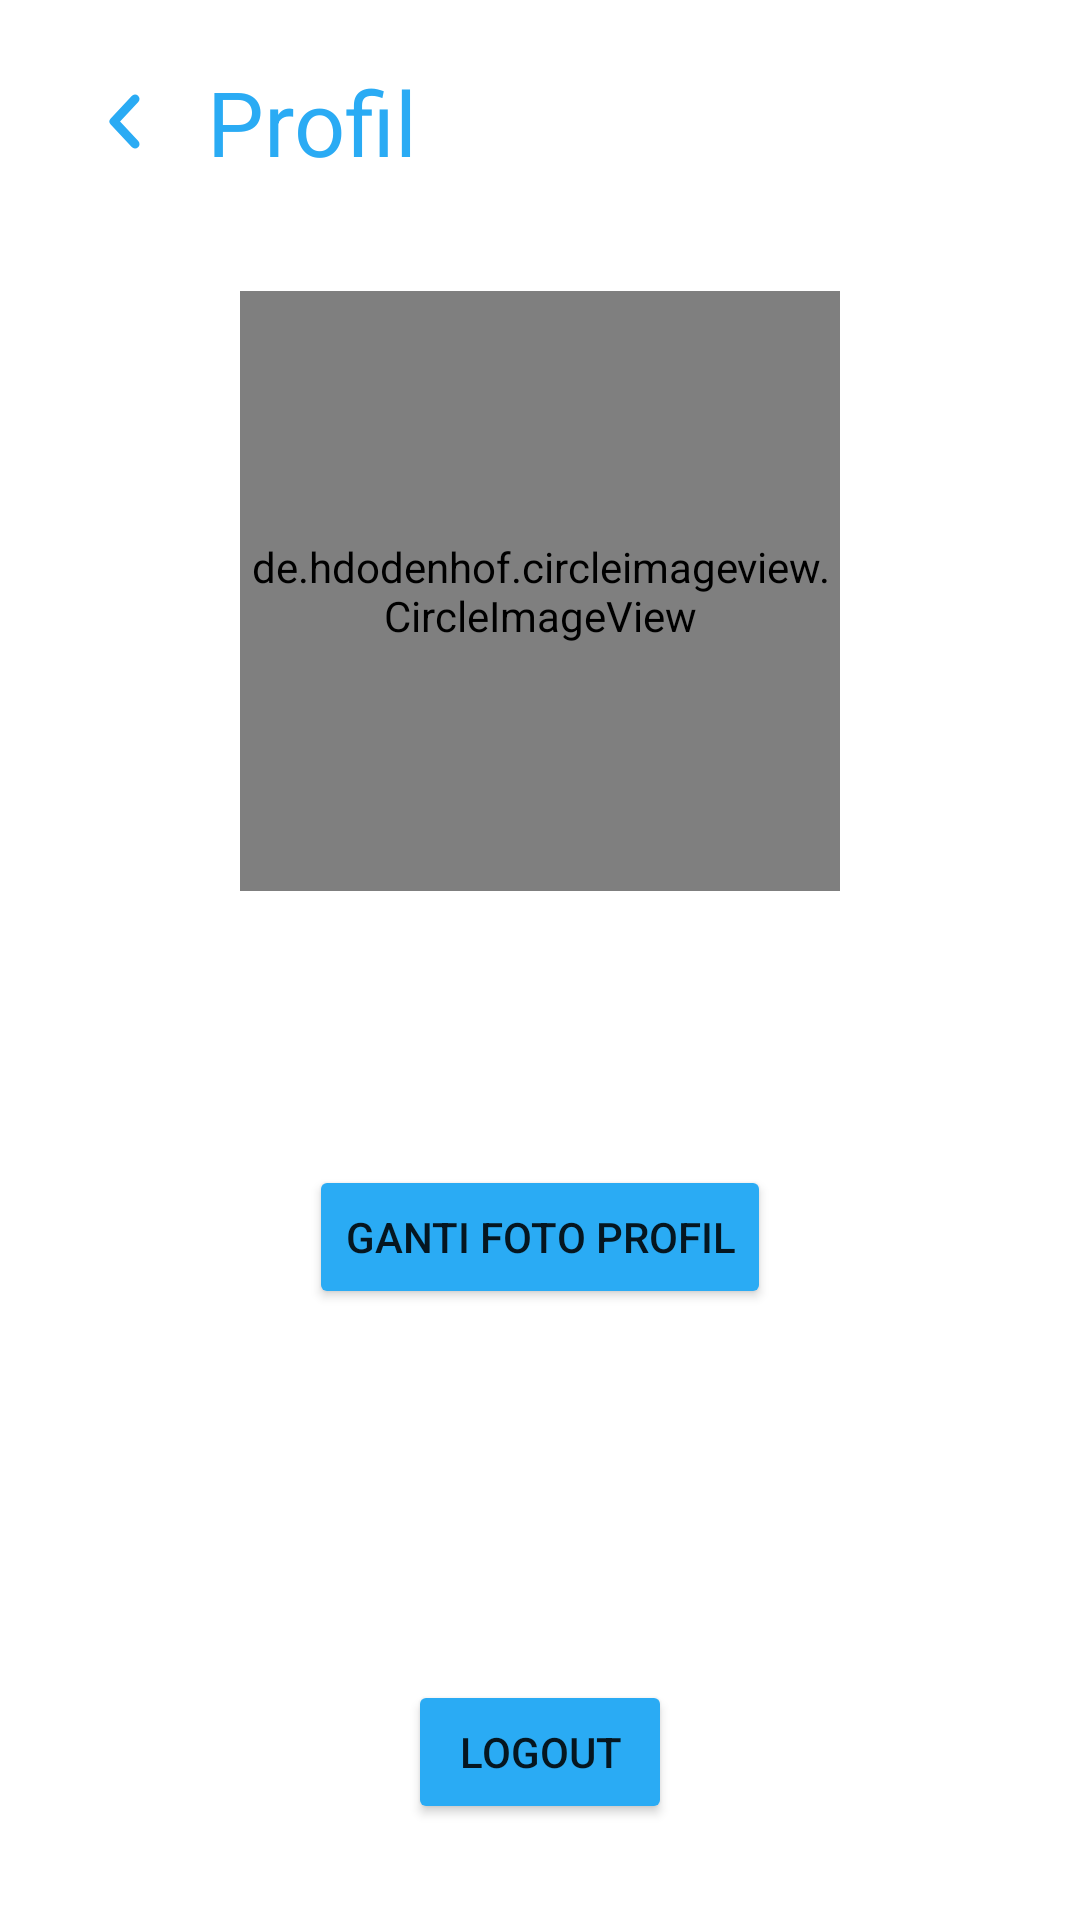

Named icons in this screenshot (1080px x 1920px) and their bounding boxes, (x1, y1, x2, y2):
back: (109, 94, 140, 149)
